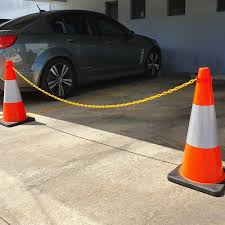car: (1, 8, 162, 99)
cone: (168, 66, 225, 198), (1, 58, 37, 128)
